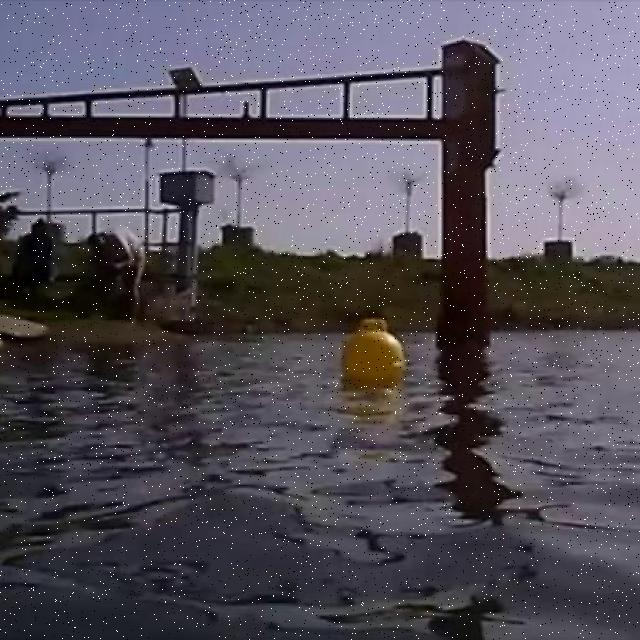buoy: (343, 316, 405, 374)
